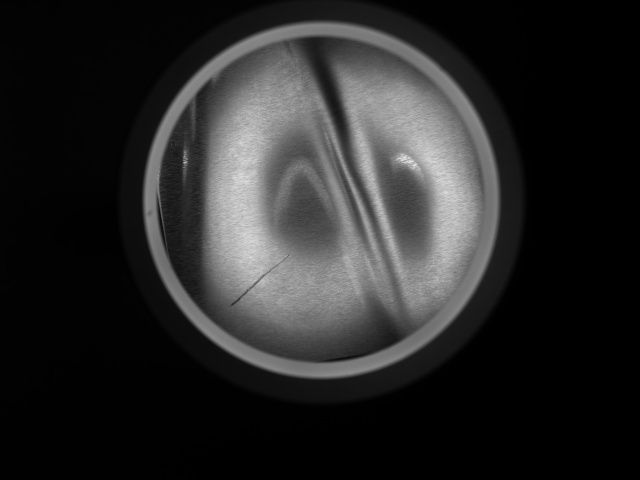ca_shang: (216, 247, 300, 312)
zhe_zhou: (204, 65, 434, 334)
